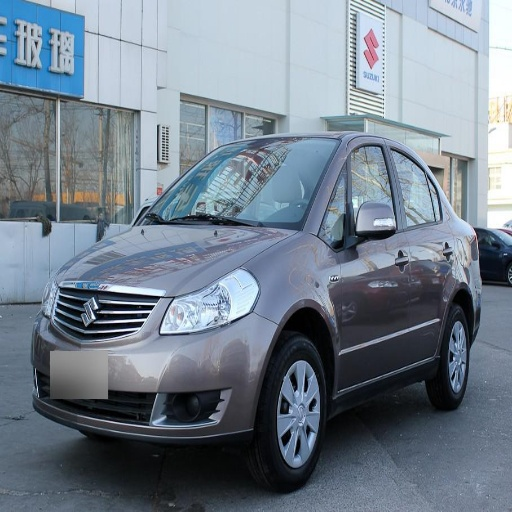front_bumper: (34, 290, 276, 445)
front_glass: (136, 137, 340, 228)
front_left_door: (324, 138, 409, 388)
